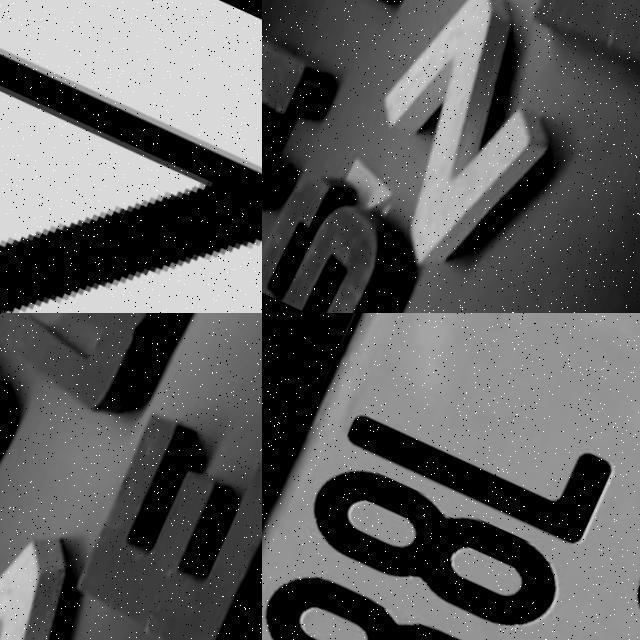8: (286, 440, 571, 640), (262, 539, 530, 640)
A: (262, 16, 335, 224)
E: (44, 393, 262, 640)
L: (334, 345, 619, 565)
N: (0, 0, 262, 313)
S: (262, 147, 427, 313)
W: (0, 313, 220, 441)
Z: (305, 0, 607, 310), (0, 521, 146, 640)
